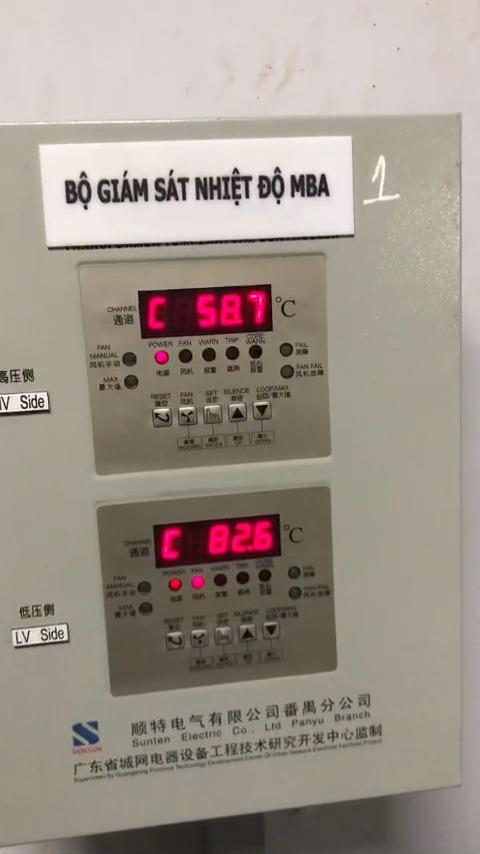led: (225, 346, 240, 360), (154, 350, 169, 364), (122, 352, 137, 366), (124, 375, 139, 389), (288, 585, 302, 600), (179, 349, 193, 363), (287, 565, 301, 579), (191, 576, 205, 590), (280, 343, 294, 356), (249, 345, 263, 358), (202, 348, 216, 361), (281, 365, 294, 379), (258, 569, 272, 582), (237, 571, 250, 585), (169, 577, 182, 591), (138, 582, 152, 595), (140, 602, 154, 615), (214, 573, 227, 586)
